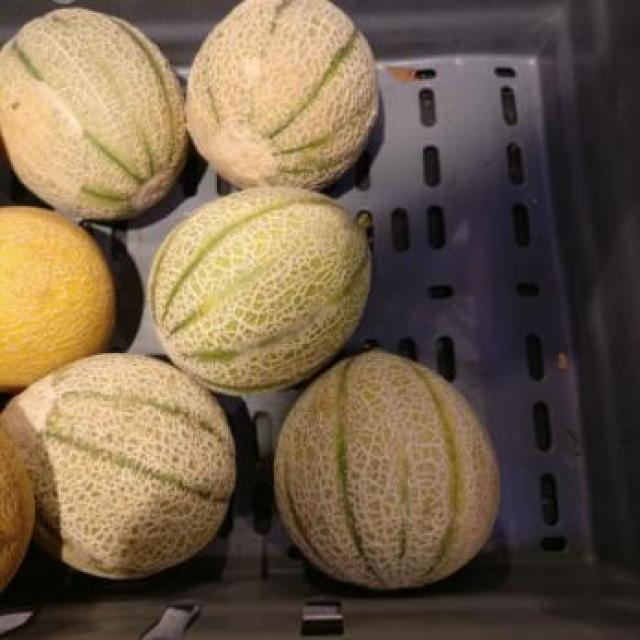Cantaloupe: (274, 350, 502, 593), (0, 355, 237, 579), (147, 190, 373, 400), (0, 9, 184, 219), (186, 0, 383, 188), (0, 208, 118, 394)
